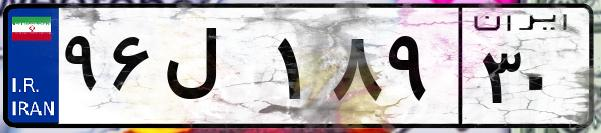0: (525, 38, 570, 115)
1: (270, 28, 330, 110)
3: (475, 38, 525, 113)
6: (110, 28, 158, 98)
8: (330, 28, 385, 110)
9: (385, 28, 445, 110), (57, 26, 110, 100)
ل: (158, 20, 270, 120)
